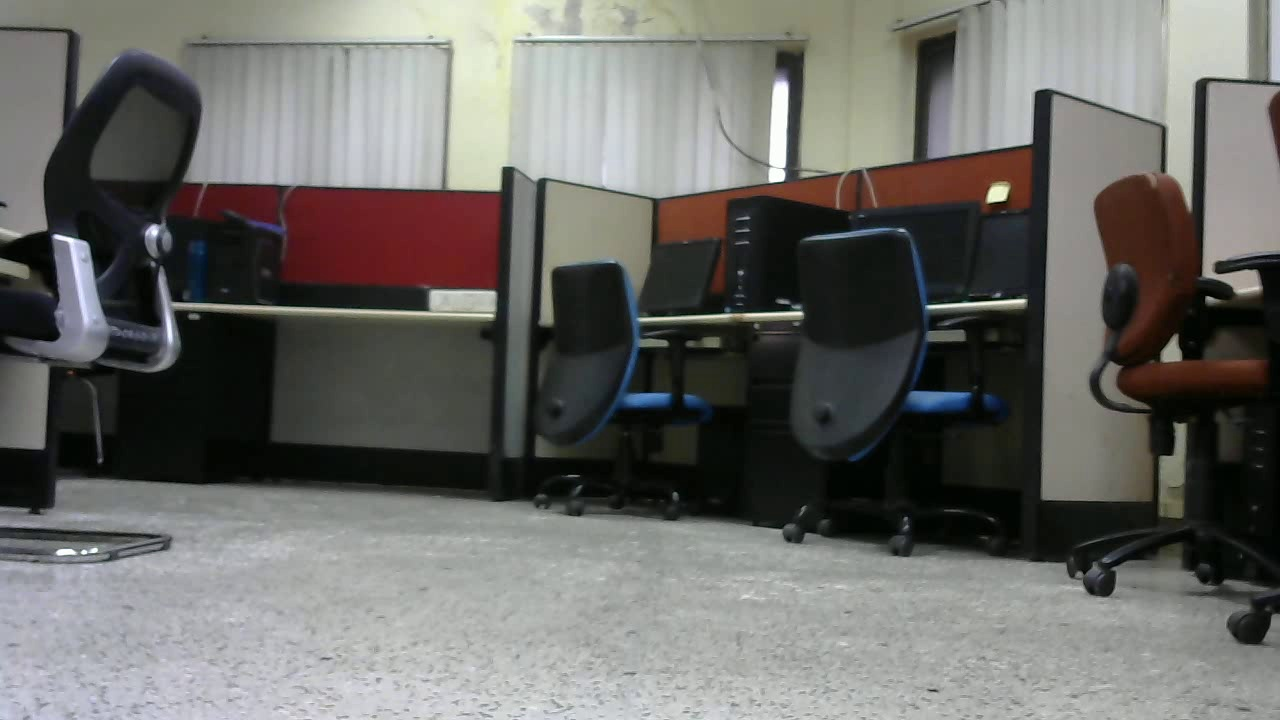chair: (1023, 155, 1280, 616), (4, 38, 218, 567), (743, 219, 988, 559), (516, 254, 712, 518)
